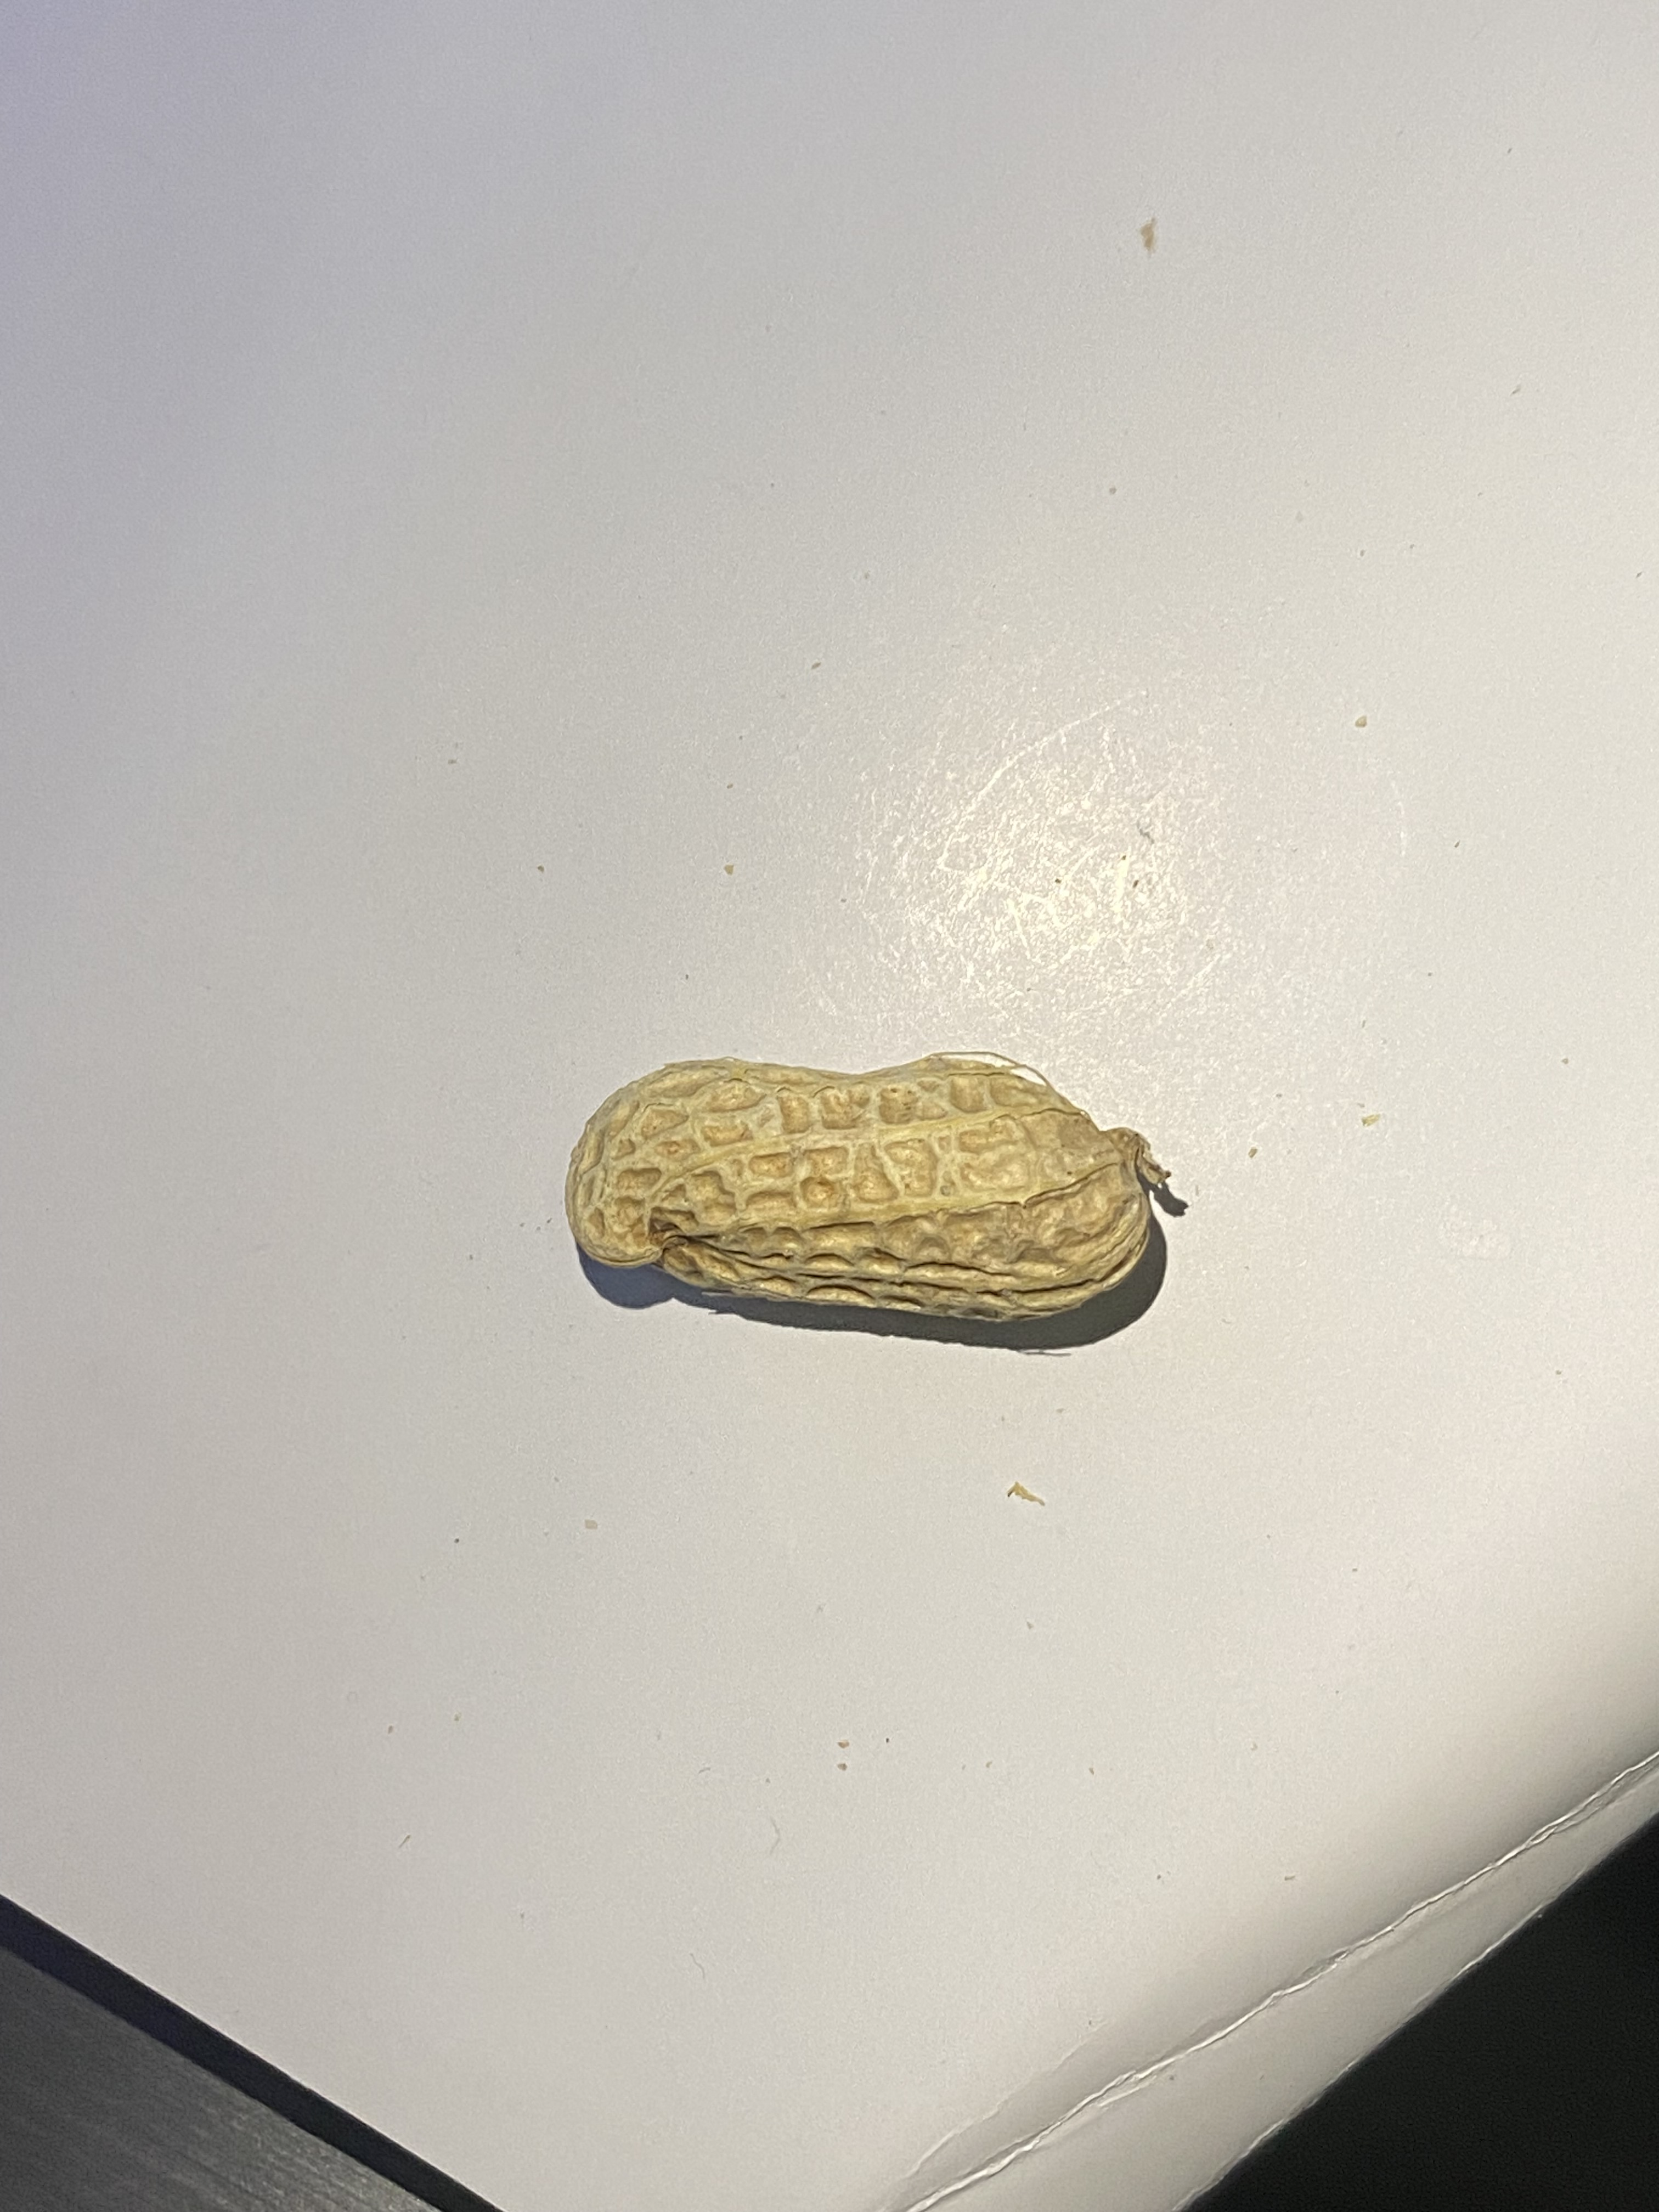kacang2: (540, 1042, 1218, 1367)
